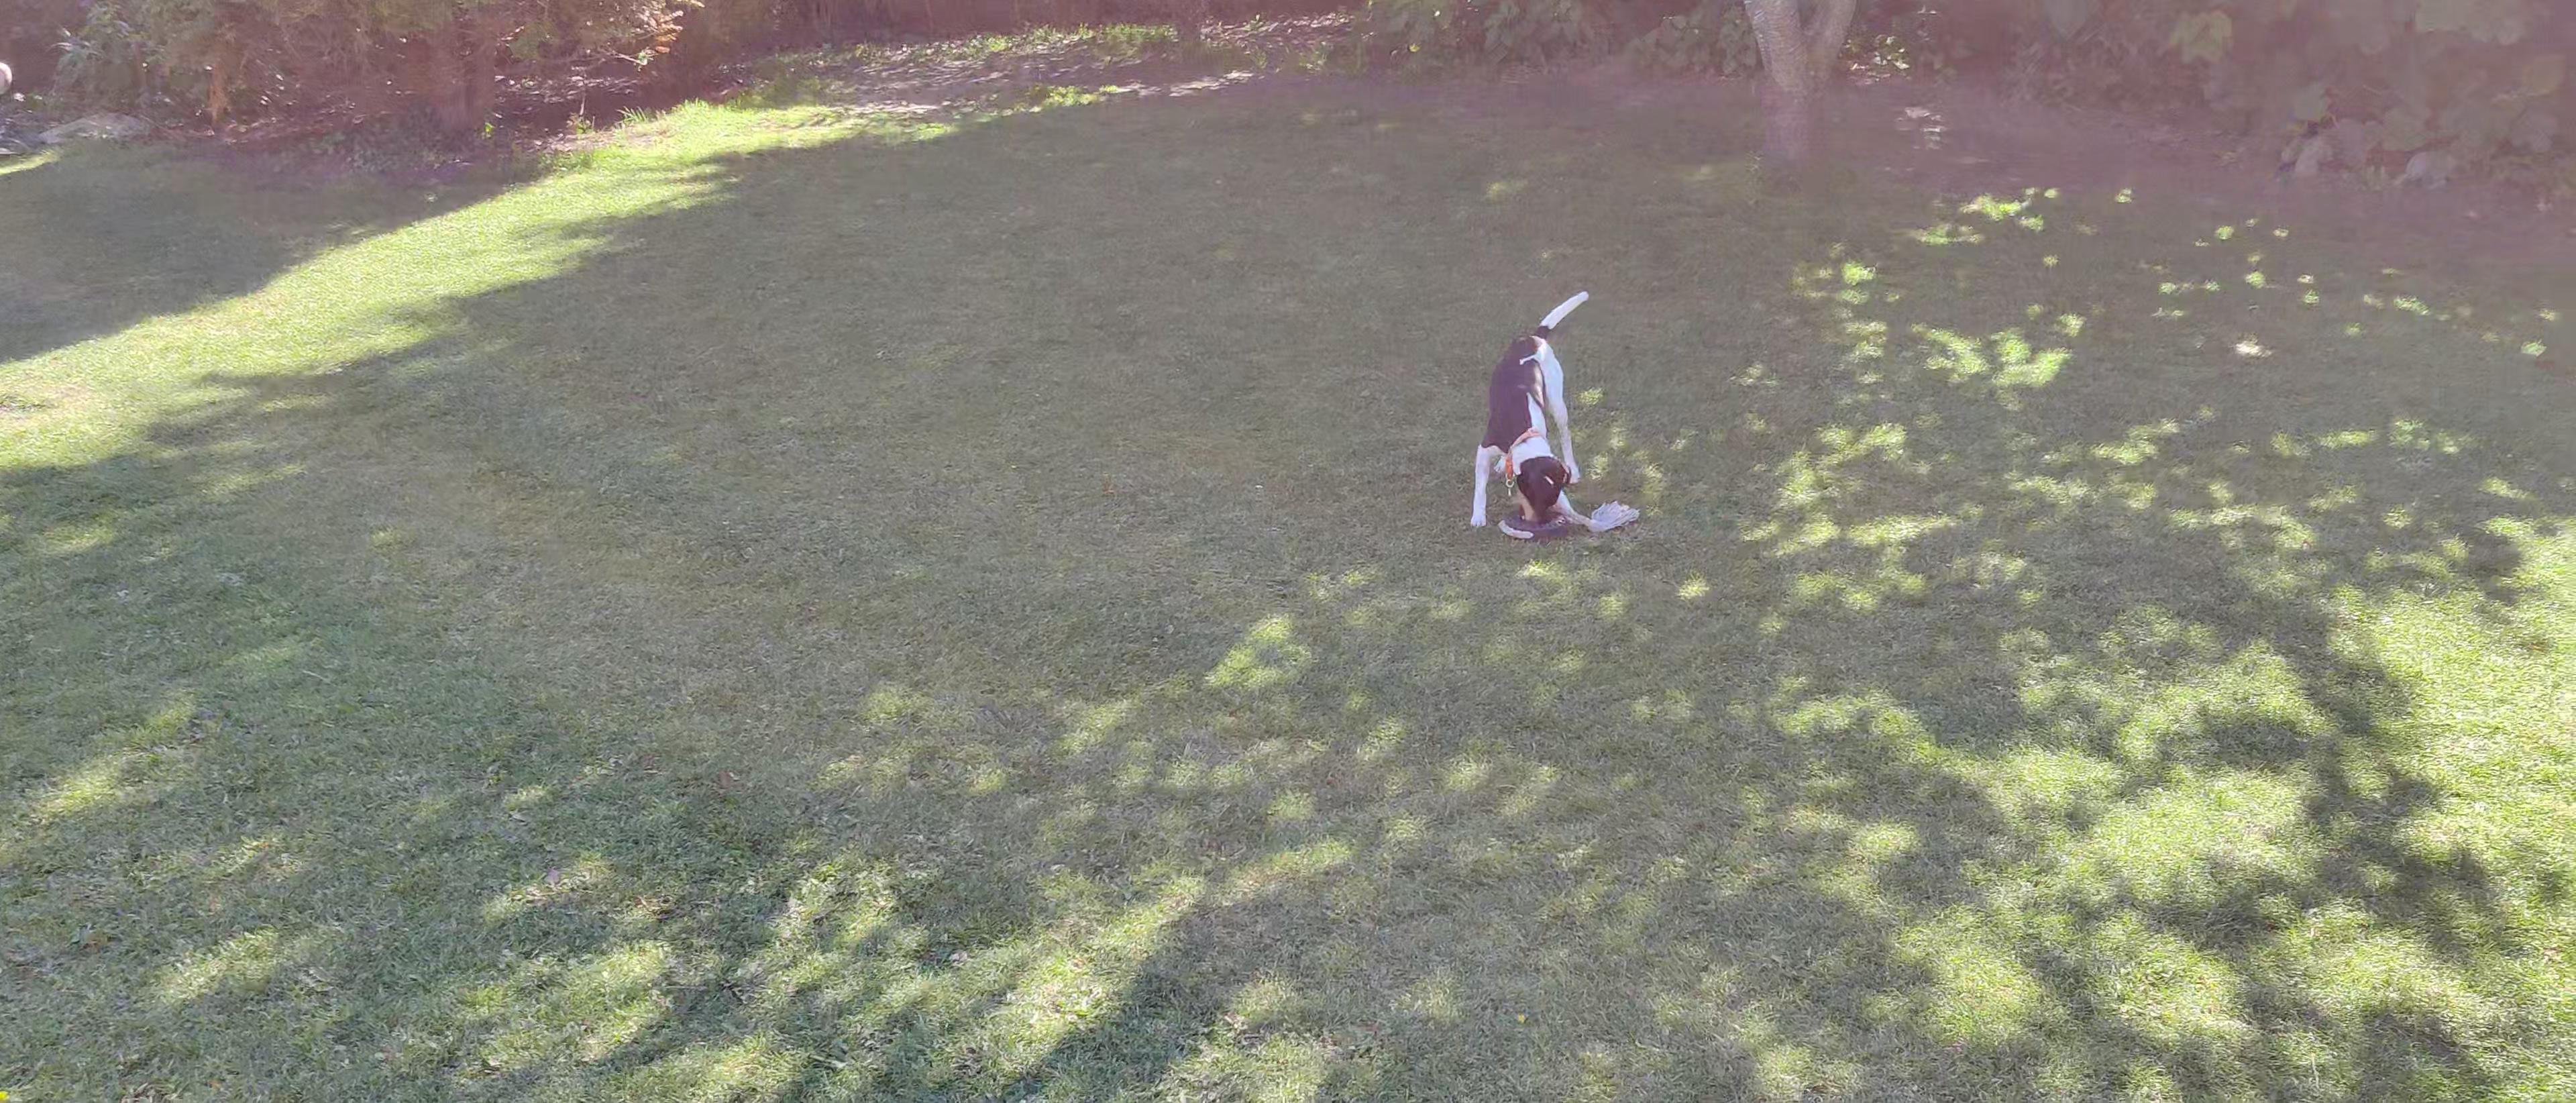Dog: (1462, 279, 1600, 544)
